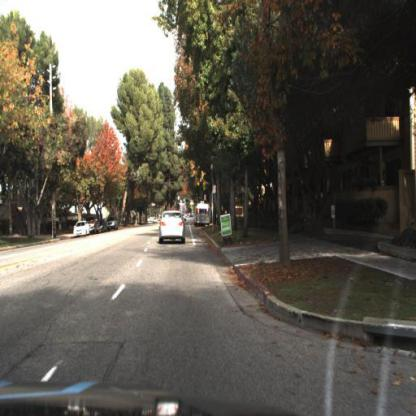car: (153, 204, 191, 255), (71, 219, 92, 240), (88, 214, 102, 237), (106, 215, 121, 234)
truck: (192, 197, 216, 238)
